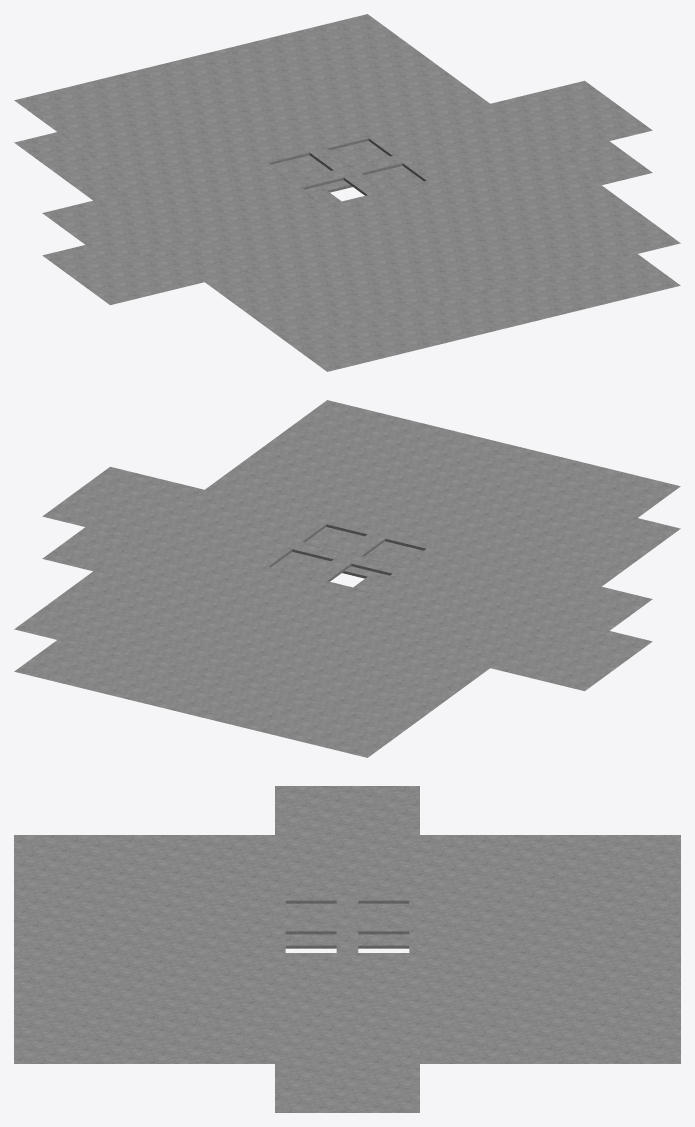
File: FinalMap_Floor.FBX
3 views of the same model, one above another, from view 1: azimuth 30°, elevation 25°; view 2: azimuth 150°, elevation 25°; view 3: azimuth 270°, elevation 25° (orthographic). The views are drawn at different scales.
Parts seen in each view (by area): view 1: FinalMap_Floor; view 2: FinalMap_Floor; view 3: FinalMap_Floor.
Boxes of the visible parts, box(x1,y1,x2,y2) form: FinalMap_Floor: box(14, 14, 680, 371); FinalMap_Floor: box(14, 400, 680, 757); FinalMap_Floor: box(14, 786, 680, 1112).
Size of the model in its own units: 6330 by 501 by 6330.
